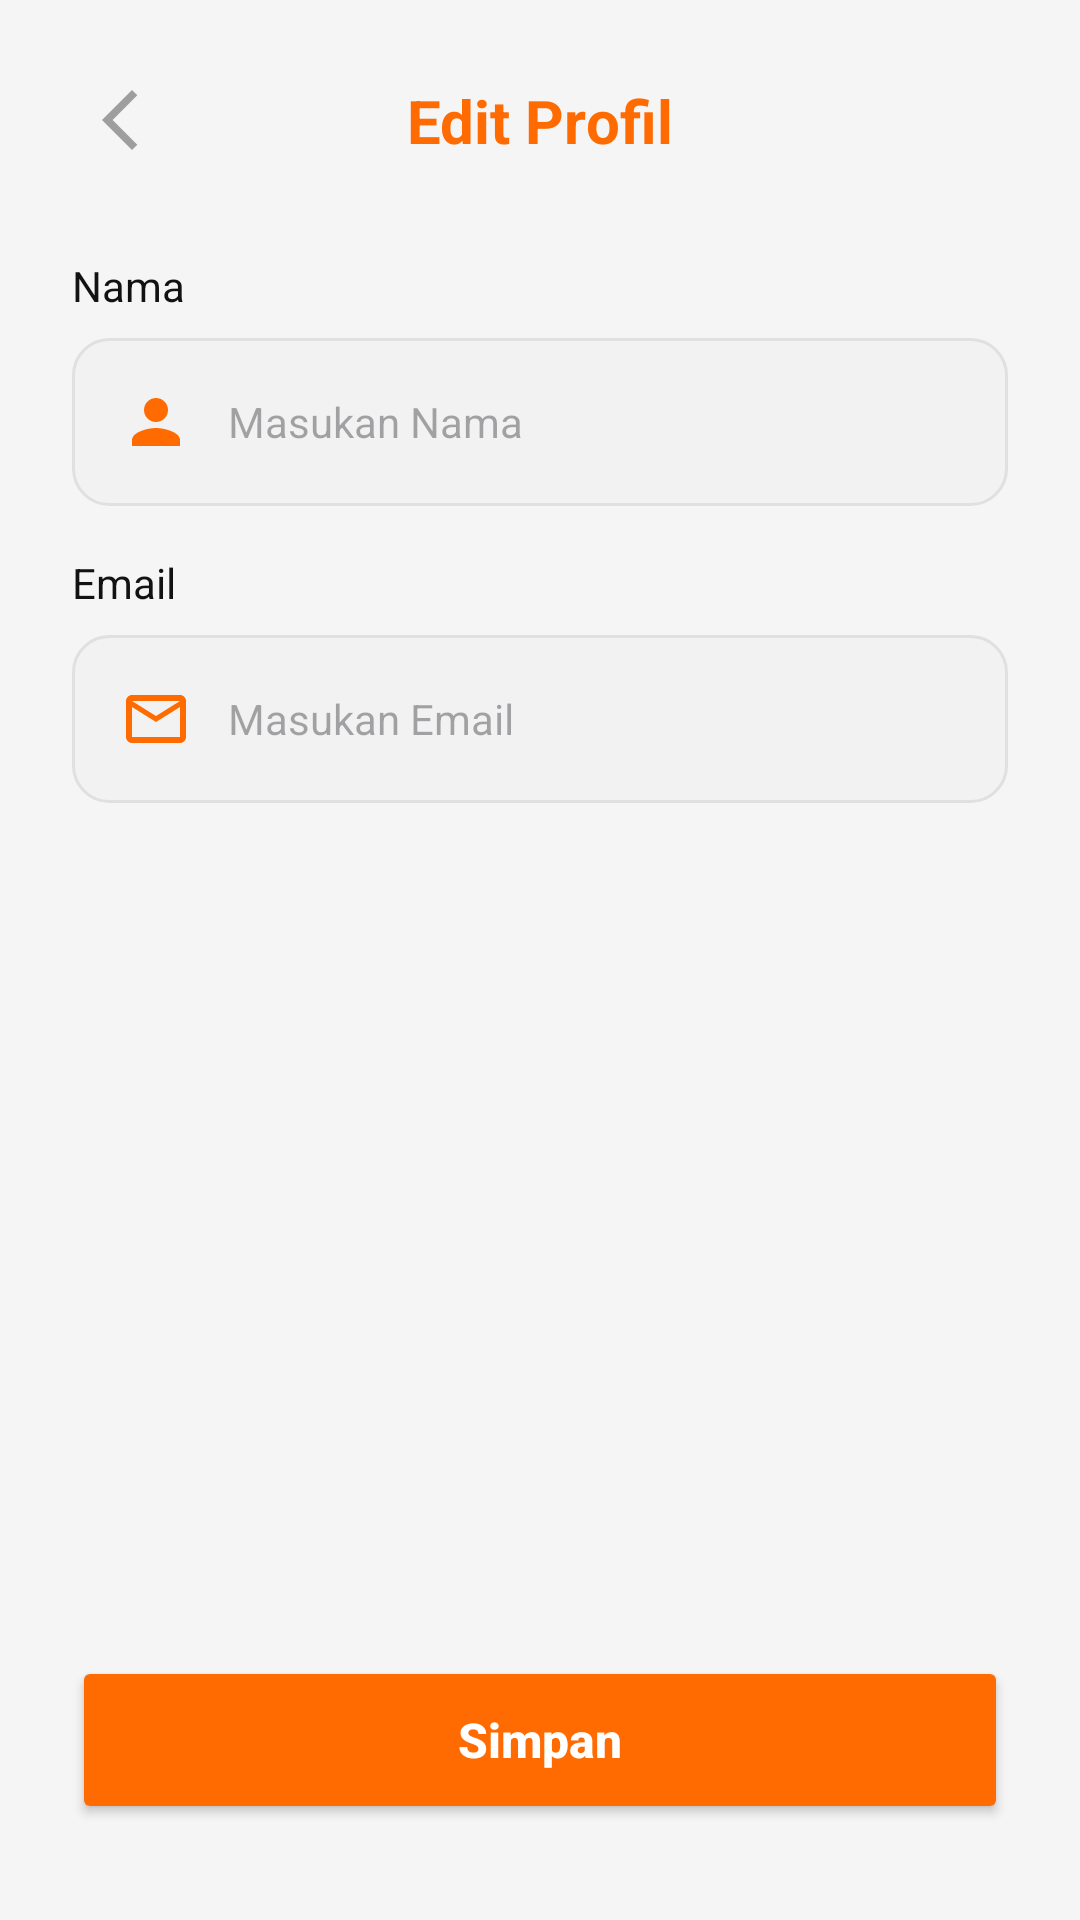

Icons on this 1080*1920 Android screen, each with its box as (x1, y1, x2, y2):
arrow back: (102, 90, 137, 150)
profile: (132, 398, 180, 446)
